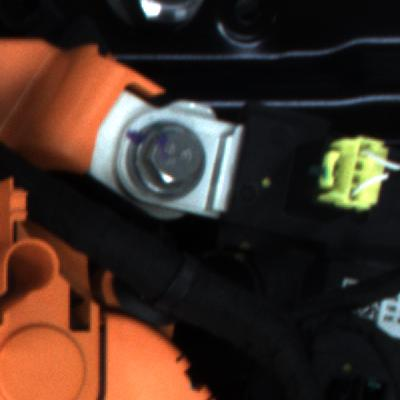nut_b: (123, 117, 220, 203)
